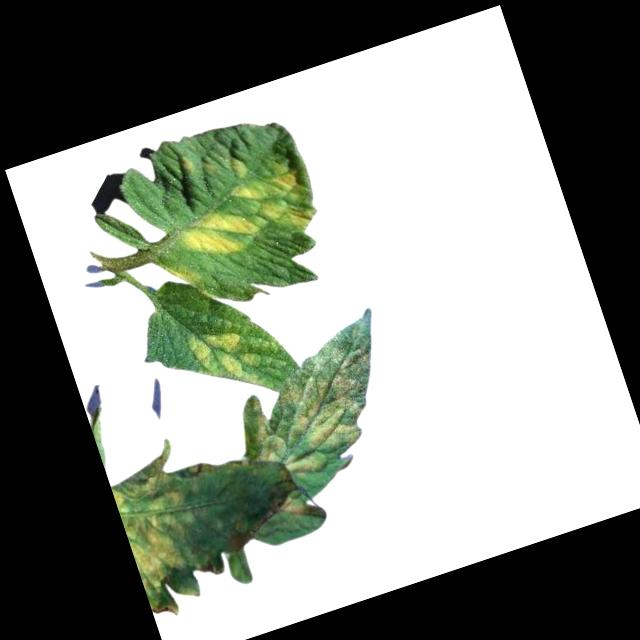Leaf_Mold: (229, 350, 379, 488), (110, 462, 220, 614), (226, 153, 322, 249), (170, 199, 265, 270), (185, 318, 266, 401), (277, 493, 307, 522), (175, 154, 199, 180), (228, 154, 248, 180)
